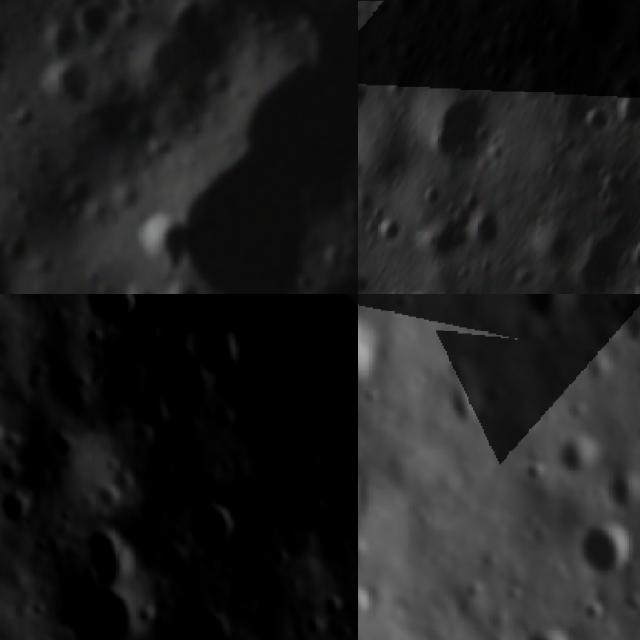crater: (145, 2, 246, 126), (137, 339, 217, 426), (44, 578, 146, 640), (422, 85, 490, 176), (75, 525, 152, 588), (573, 514, 640, 583), (564, 231, 625, 290), (183, 496, 243, 554), (192, 321, 245, 386), (556, 426, 612, 486), (358, 302, 391, 401), (128, 219, 192, 268), (510, 294, 584, 336), (38, 60, 87, 115), (562, 0, 618, 48), (599, 462, 640, 518), (60, 0, 111, 44), (84, 294, 141, 324), (514, 616, 583, 640), (459, 214, 502, 252), (57, 383, 94, 425), (358, 576, 387, 629), (612, 301, 640, 354), (0, 491, 36, 528), (297, 494, 334, 530), (90, 477, 126, 513), (612, 79, 640, 122), (122, 418, 156, 452), (110, 466, 142, 502), (365, 213, 404, 242), (206, 406, 240, 436), (590, 170, 624, 199), (582, 102, 610, 135), (335, 486, 358, 526), (323, 594, 346, 620), (145, 322, 163, 348), (0, 421, 12, 450), (358, 271, 371, 294), (358, 82, 369, 109), (629, 242, 640, 266)
